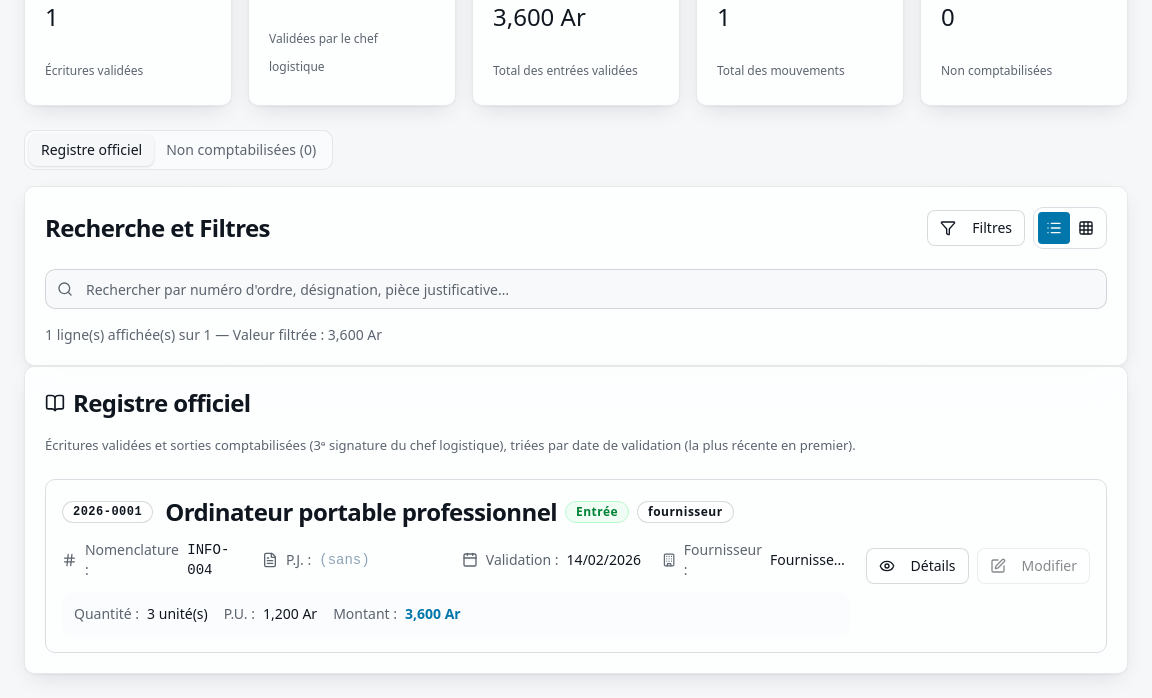
Scenario: Détails du journal — photo de l'article › 5. le détail affiche le numéro d'ordre calculé (pas de donnée fictive)
This screenshot has width=1152, height=698.
(page scrolled)
What coordinates should you click on to do the following:
click the button "Détails"
I would click on:
 (917, 566)
Its box is [866,548,968,584].
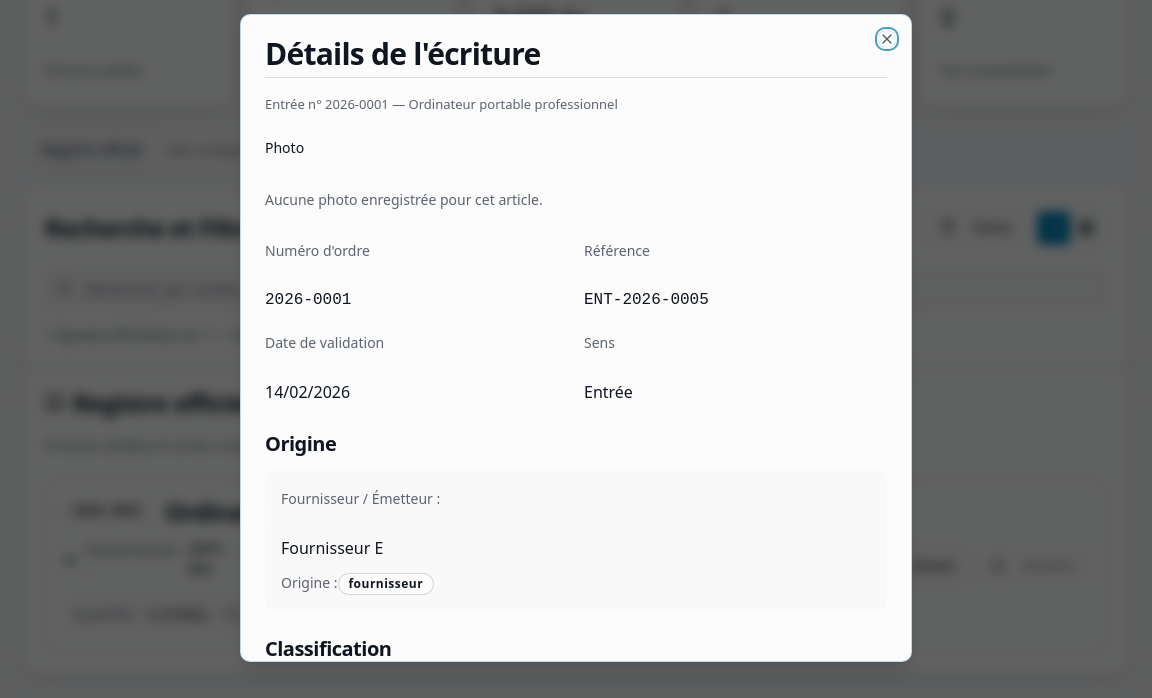
Expected: the text "Numéro d'ordre" is shown, [265,241,370,260]
Expected: the text "2026-0001" is shown, [265,291,351,309]
Expected: the text "ENT-2026-0005" is shown, [584,291,709,309]
